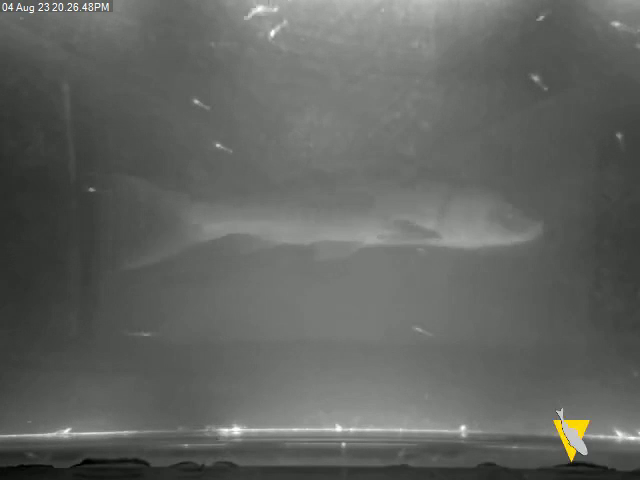\uC789\uC5B4: (102, 146, 547, 276)
